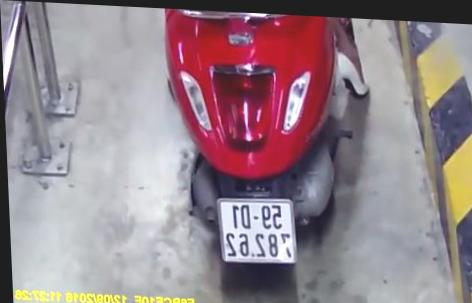License_Plate: (210, 189, 304, 270)
